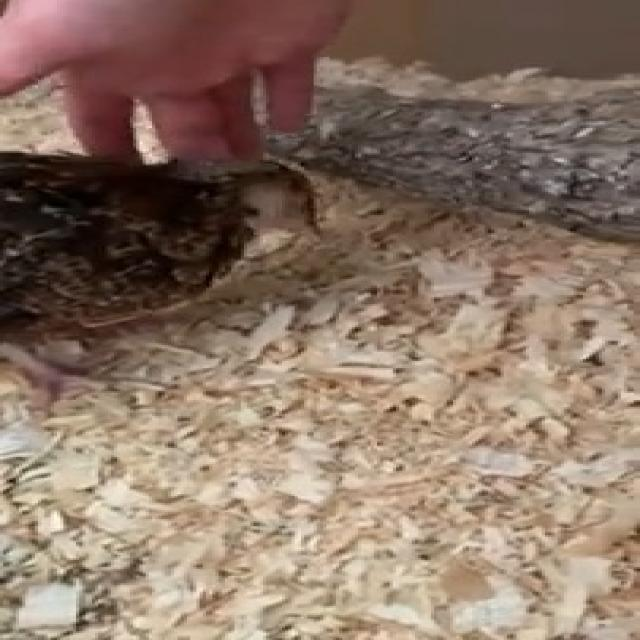newcastle: (0, 119, 339, 365)
